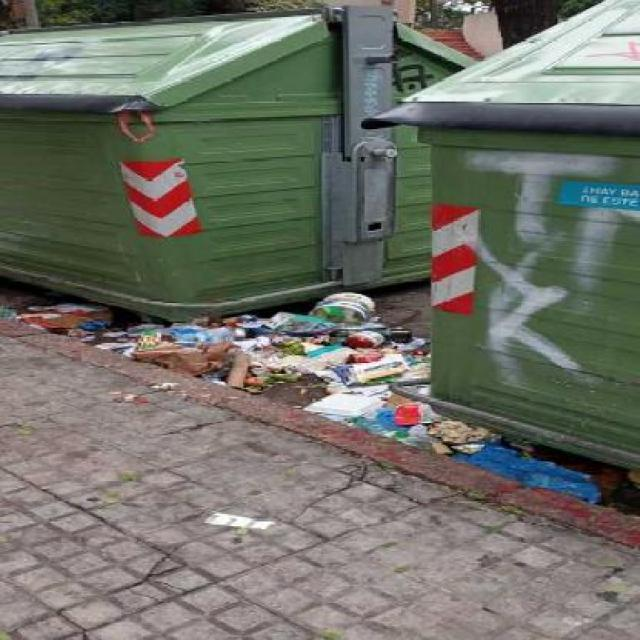garbage: (5, 291, 614, 526)
